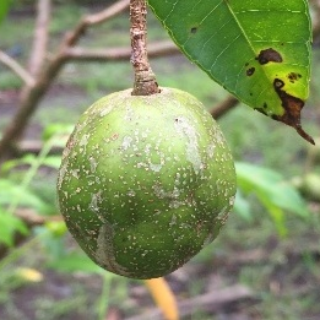coc: (57, 86, 237, 281)
